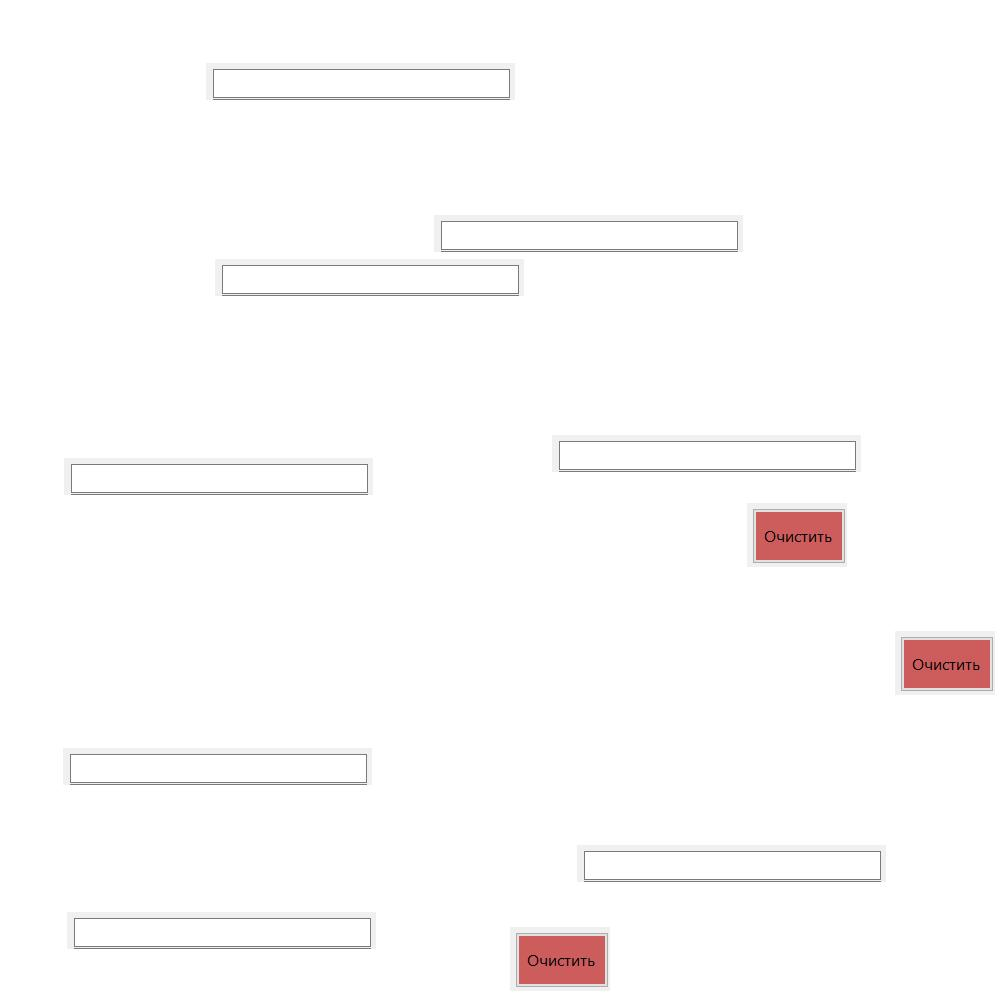Button: (747, 503, 847, 567), (895, 631, 995, 695), (510, 927, 610, 991)
EditText-: (577, 845, 886, 882), (64, 458, 373, 495), (434, 215, 743, 252), (63, 748, 372, 785), (206, 63, 515, 100), (67, 912, 376, 949), (552, 435, 861, 472), (215, 259, 524, 296)
